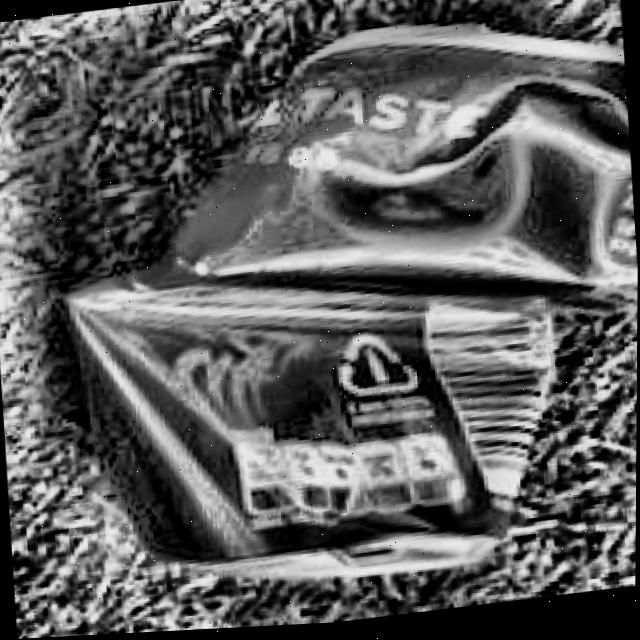metal: (70, 36, 638, 586)
